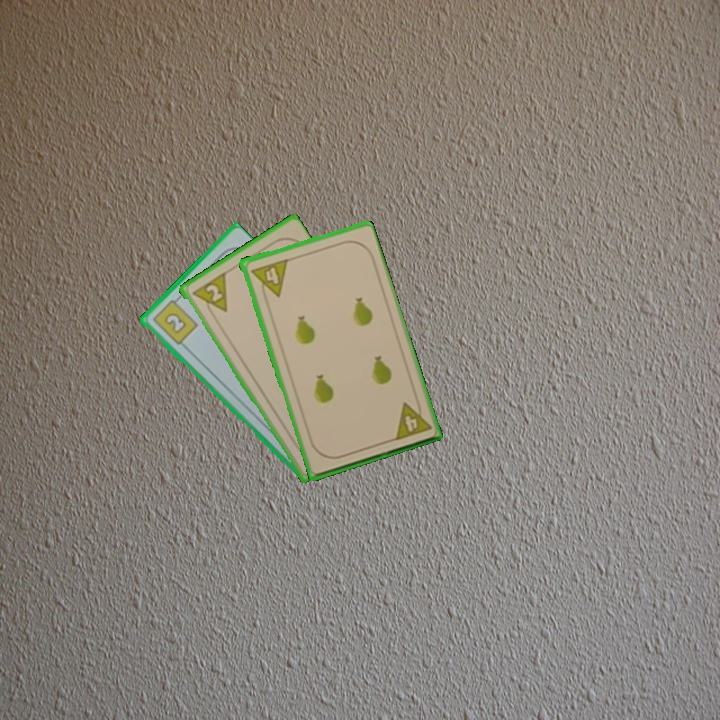2b: (149, 293, 200, 348)
2p: (188, 269, 230, 321)
4p: (246, 255, 290, 303), (391, 395, 434, 443)
